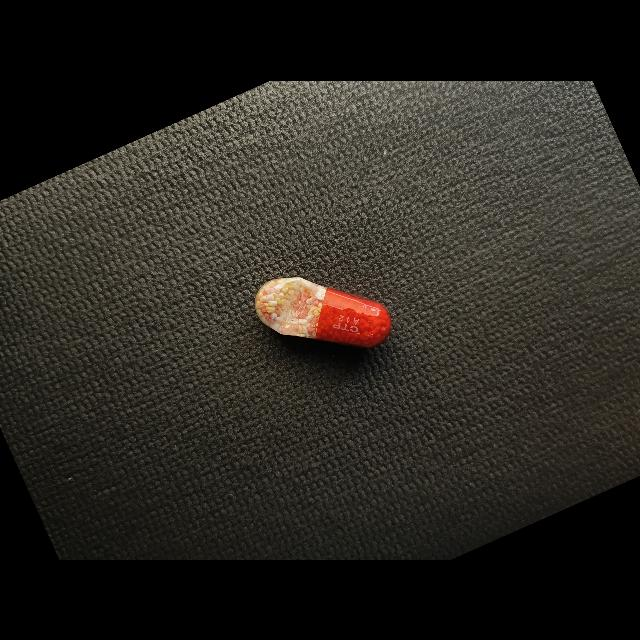Defective Capsule: (255, 277, 392, 346)
